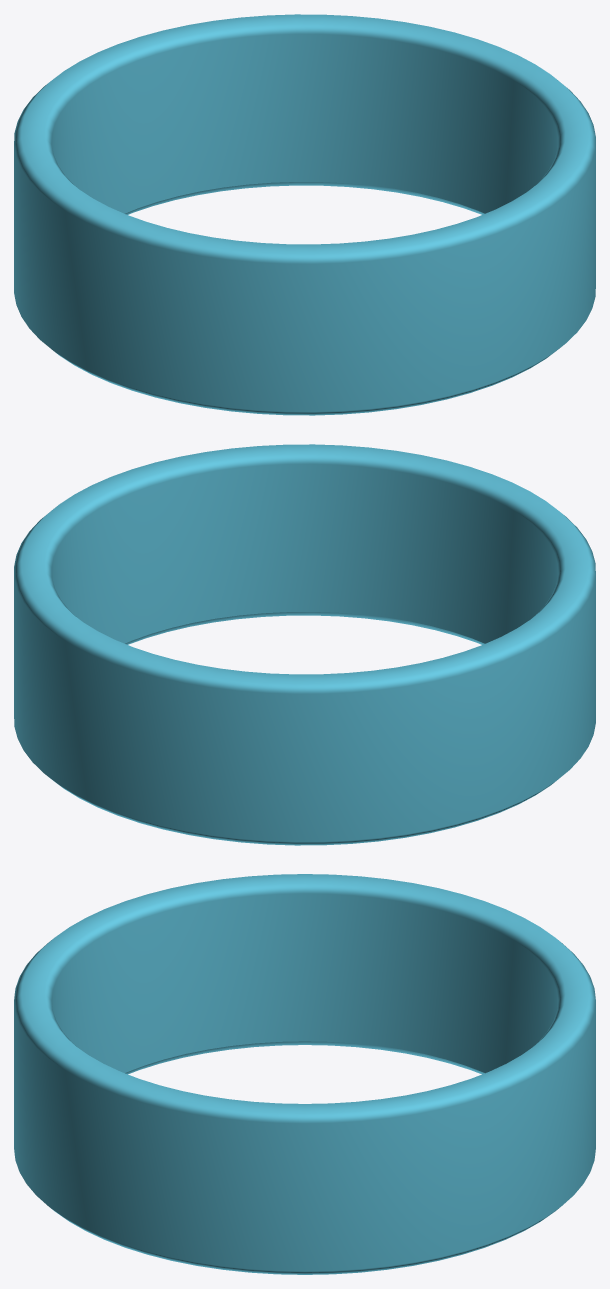
3 renders of one model, top to bottom at view 1: azimuth 30°, elevation 25°; view 2: azimuth 150°, elevation 25°; view 3: azimuth 270°, elevation 25°, orthographic.
Visible parts, largest first — view 1: seal_body; view 2: seal_body; view 3: seal_body.
Part boxes in pixels (x1,y1,x2,y2): seal_body: (14, 14, 595, 415); seal_body: (14, 444, 595, 845); seal_body: (14, 874, 595, 1274).
Size of the model in its own units: 0.083 by 0.0254 by 0.083.
